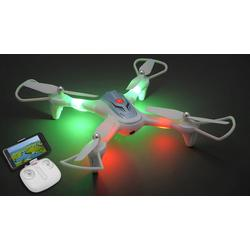drone: (13, 57, 236, 173)
